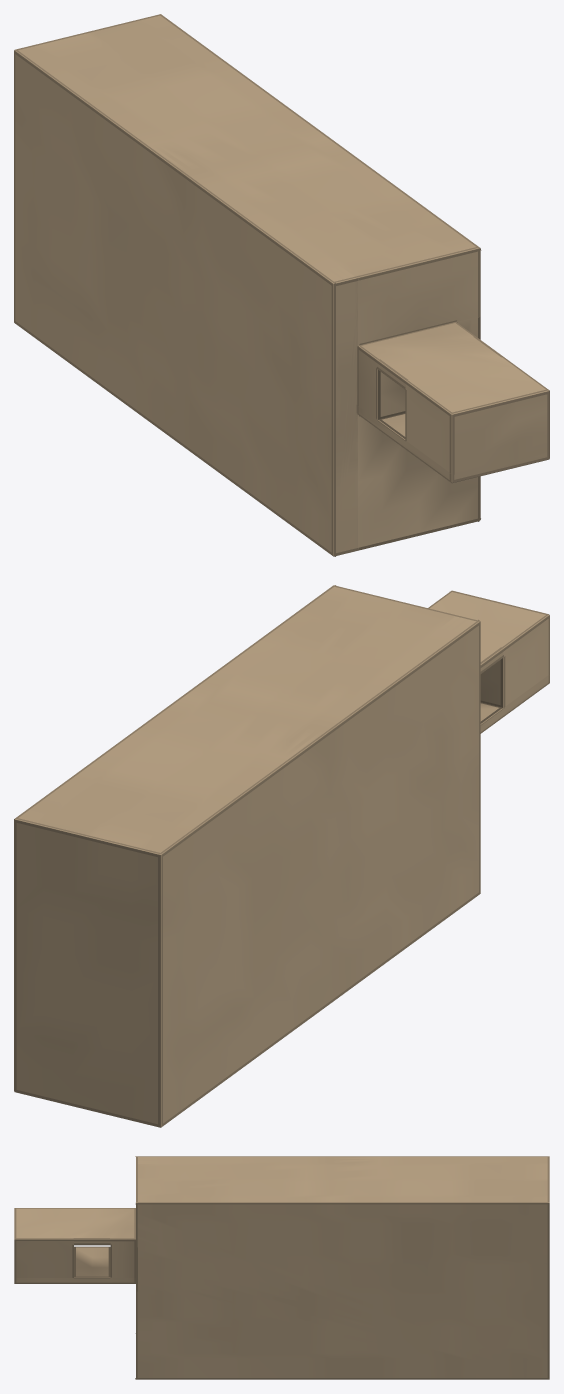
The model's file is beam-zn.glb.
3 renders of one model, top to bottom at view 1: azimuth 30°, elevation 25°; view 2: azimuth 150°, elevation 25°; view 3: azimuth 270°, elevation 25°, orthographic. The views are drawn at different scales.
Parts seen in each view (by area): view 1: beam-zn; view 2: beam-zn; view 3: beam-zn.
Boxes of the visible parts, bbox=[...] form: beam-zn: bbox=[14, 14, 549, 556]; beam-zn: bbox=[14, 585, 549, 1127]; beam-zn: bbox=[14, 1156, 549, 1379].
Bounding box in the file's own units: 0.0908 × 0.1612 × 0.4408.
